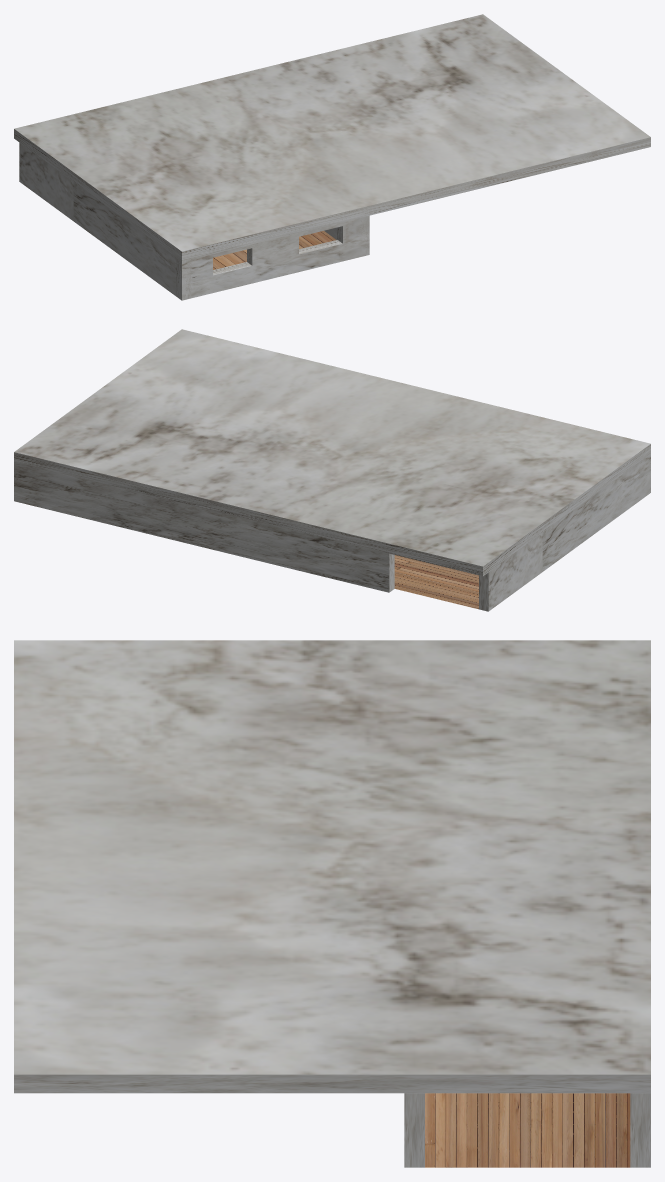
The model's file is Kyoshitsu_part2.fbx.
3 views of the same model, one above another, from view 1: azimuth 30°, elevation 25°; view 2: azimuth 150°, elevation 25°; view 3: azimuth 270°, elevation 25° (orthographic). The views are drawn at different scales.
Parts seen in each view (by area): view 1: pCube17, pCube3, pCube2, pCube10, pPlane1; view 2: pCube17, pCube9, pCube2, pPlane2, pCube10; view 3: pCube17, pPlane2, pCube9, pCube7.
Boxes of the visible parts, box(x1,y1,x2,y2) form: pCube17: box(14, 14, 650, 261); pCube3: box(176, 215, 369, 300); pCube2: box(73, 182, 191, 300); pCube10: box(19, 142, 73, 220); pPlane1: box(213, 231, 335, 269); pCube17: box(14, 329, 650, 576); pCube9: box(14, 462, 394, 592); pCube2: box(542, 454, 650, 571); pPlane2: box(394, 555, 478, 609); pCube10: box(479, 533, 542, 611); pCube17: box(14, 640, 650, 1093); pPlane2: box(425, 1093, 630, 1167); pCube9: box(630, 1093, 650, 1167); pCube7: box(404, 1093, 424, 1167).
Size of the model in its own units: 25 by 2.5 by 15.5.
Materials: 2 (2 with a texture image).
